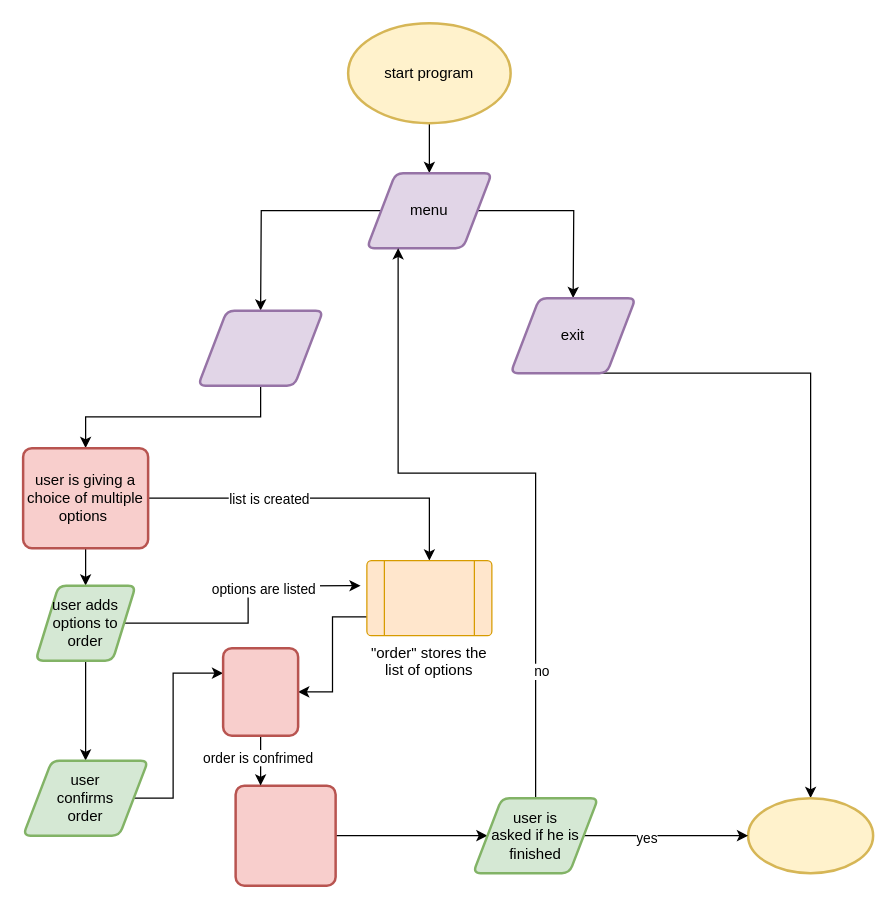
Some shapes in this 895 by 908 pixel diagram are drawn without their labels. Here are the shapes that lost their labels. From the top down, the box of each, then its label:
(196, 309, 324, 386): start order
(221, 646, 299, 736): waiting for order to be confirmed
(234, 784, 336, 886): the data is sent to the school cafe
(746, 796, 874, 874): stops
